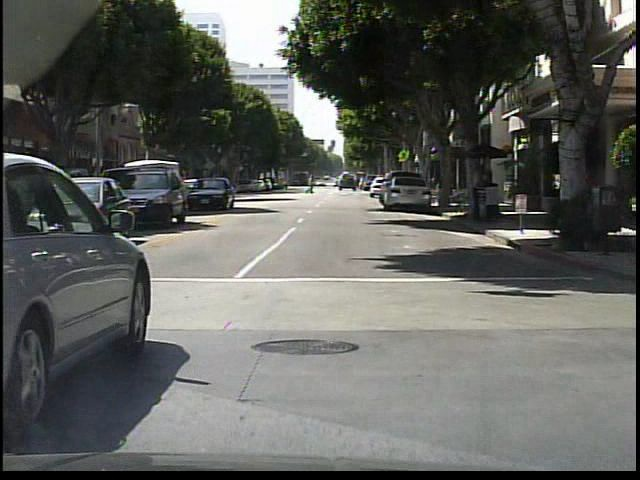person: (578, 167, 595, 238), (475, 165, 492, 222), (307, 177, 318, 197)
